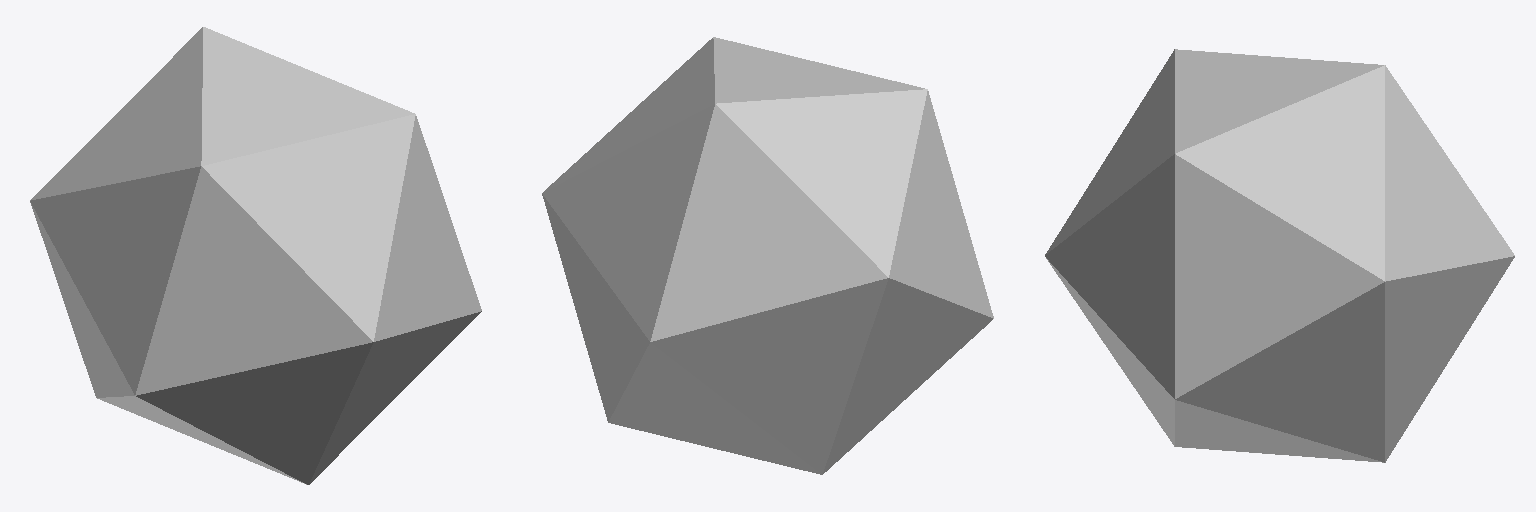
The model's file is ico.obj.
3 renders of one model, left to right at view 1: azimuth 30°, elevation 25°; view 2: azimuth 150°, elevation 25°; view 3: azimuth 270°, elevation 25°, orthographic.
Parts seen in each view (by area): view 1: Icosphere; view 2: Icosphere; view 3: Icosphere.
Part boxes in pixels (left/top/right/bottom): Icosphere: left=30, top=27, right=481, bottom=484; Icosphere: left=542, top=37, right=993, bottom=474; Icosphere: left=1045, top=49, right=1514, bottom=462.
Bounding box in the file's own units: 1.7 × 1.79 × 2.